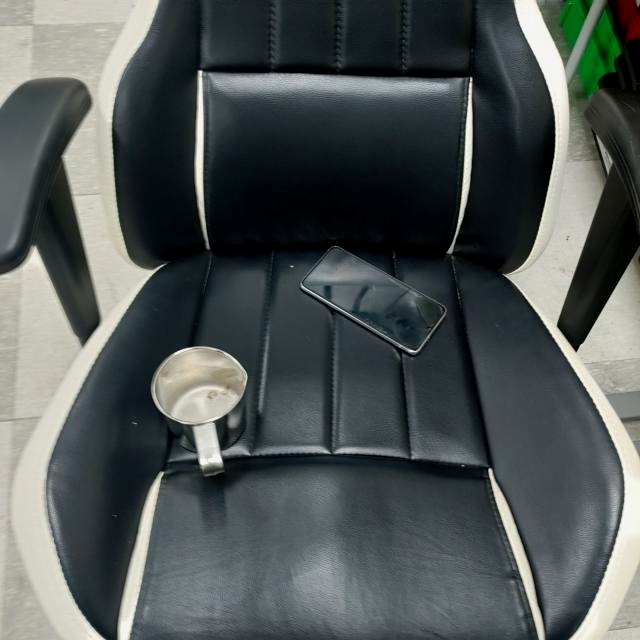cup: (150, 344, 249, 480)
phone: (299, 243, 449, 357)
